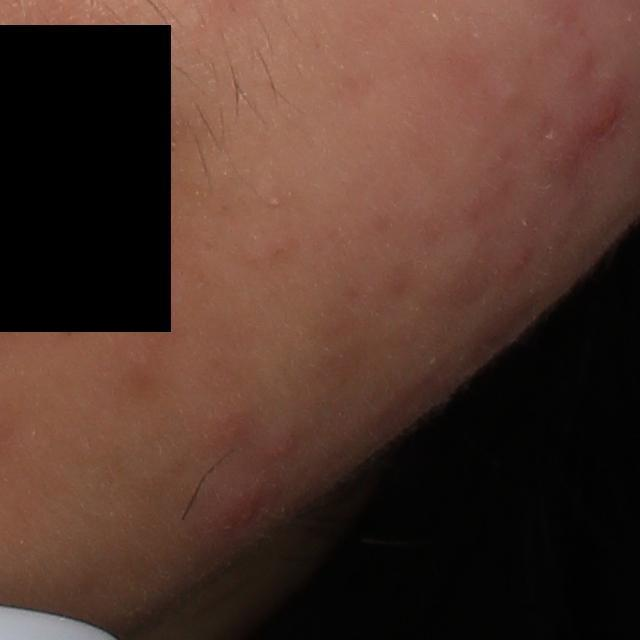comedo: (494, 74, 529, 113)
papule: (200, 480, 277, 542), (580, 89, 626, 141)
